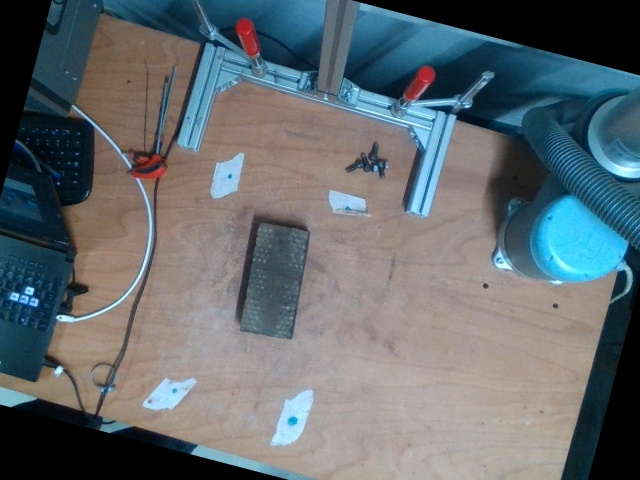brick: (238, 220, 307, 340)
